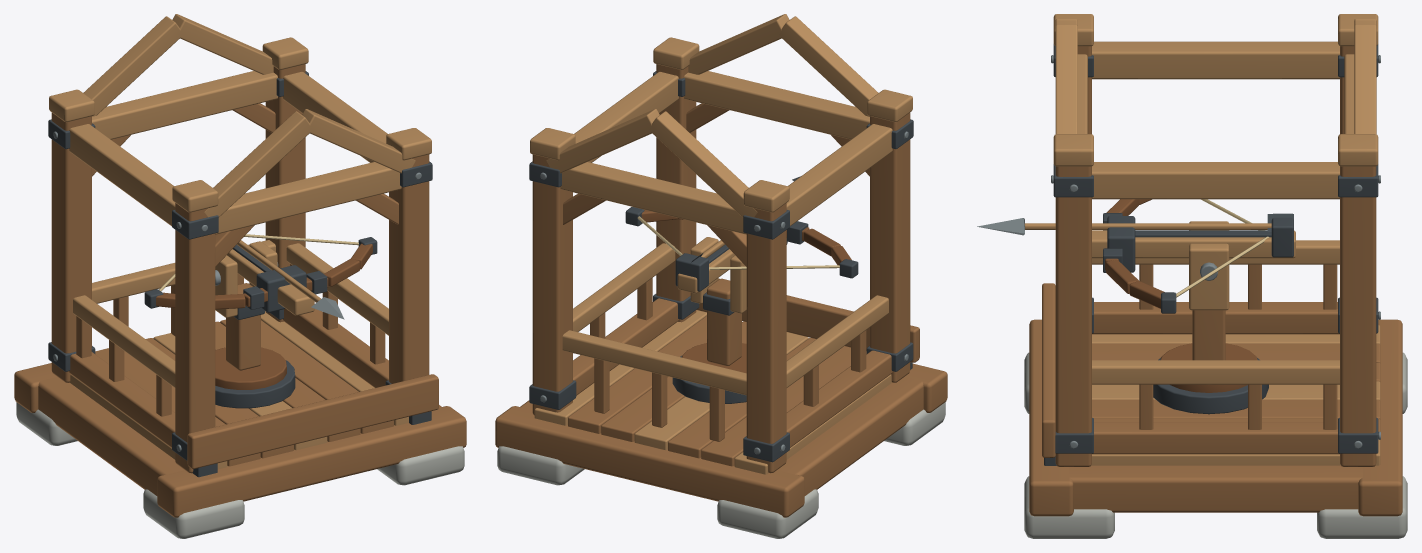
Rendered from tower_stage_assembling.glb.
3 renders of one model, left to right at view 1: azimuth 30°, elevation 25°; view 2: azimuth 150°, elevation 25°; view 3: azimuth 270°, elevation 25°, orthographic. The views are drawn at different scales.
Parts seen in each view (by area): view 1: base_beam_front, front_deck_lip, post_LF, post_RF, post_LB, base_beam_left, upper_beam_back, upper_beam_front, upper_beam_left, sill_left, post_RB, gable_left_front (+40 smaller); view 2: base_beam_back, post_LB, post_LF, post_RB, base_beam_left, upper_beam_front, upper_beam_back, upper_beam_left, rail_back, post_RF, sill_left, gable_left_back (+42 smaller); view 3: base_beam_right, post_RF, post_RB, upper_beam_left, upper_beam_right, sill_right, sill_left, rail_right, base_beam_back, base_beam_front, deck_plank_01, deck_plank_06 (+36 smaller).
Part boxes in pixels (x1,y1,x2,y2): base_beam_front: (157,406,466,517); front_deck_lip: (187,374,438,468); post_LF: (175,203,215,473); post_RF: (389,154,429,383); post_LB: (51,112,91,382); base_beam_left: (38,376,184,495); upper_beam_back: (92,71,277,139); upper_beam_front: (215,162,401,234); upper_beam_left: (69,124,175,226); sill_left: (69,352,175,447); post_RB: (265,64,305,322); gable_left_front: (204,111,312,217); base_beam_back: (495,406,804,517); post_LB: (746,203,786,473); post_LF: (870,112,910,382); post_RB: (532,154,572,415); base_beam_left: (770,376,923,495); upper_beam_front: (684,71,869,139); upper_beam_back: (560,162,746,234); upper_beam_left: (786,124,892,226); rail_back: (562,330,746,395); post_RF: (656,64,696,322); sill_left: (786,350,892,447); gable_left_back: (649,111,757,217); base_beam_right: (1069,465,1362,512); post_RF: (1055,166,1091,466); post_RB: (1340,166,1376,466); upper_beam_left: (1092,41,1339,79); upper_beam_right: (1092,162,1339,199); sill_right: (1092,422,1339,454); sill_left: (1092,302,1339,334); rail_right: (1092,360,1339,384); base_beam_back: (1358,319,1402,516); base_beam_front: (1029,319,1073,516); deck_plank_01: (1092,343,1380,363); deck_plank_06: (1091,439,1380,465).
Size of the model in its own units: 2.8 by 3.48 by 3.09.
